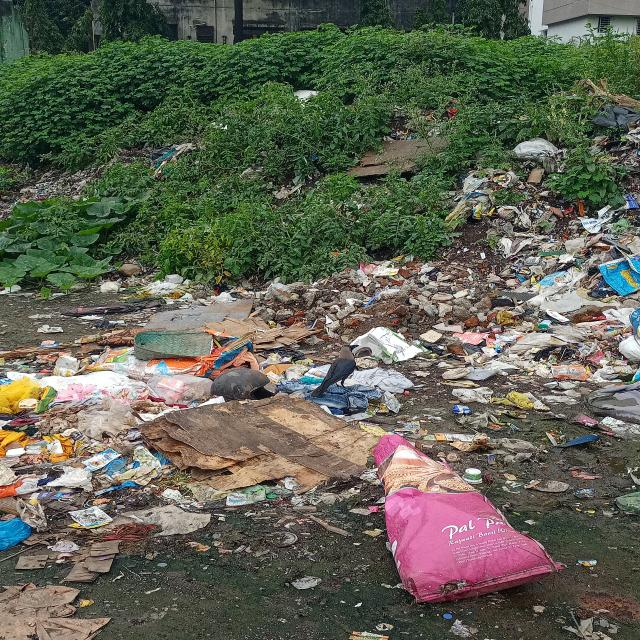garbage: (370, 156, 640, 640), (8, 270, 391, 572)
